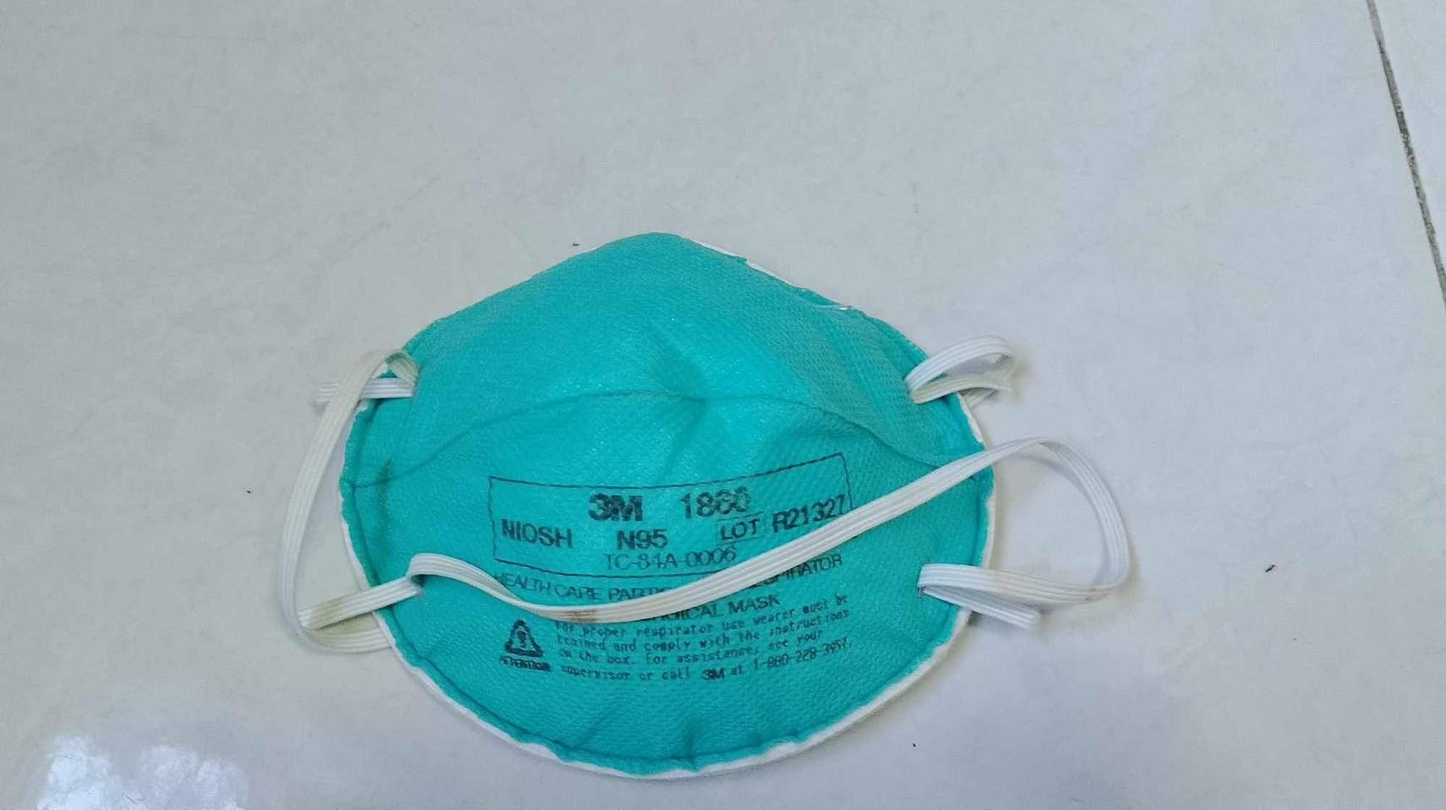General: (274, 229, 1134, 783)
